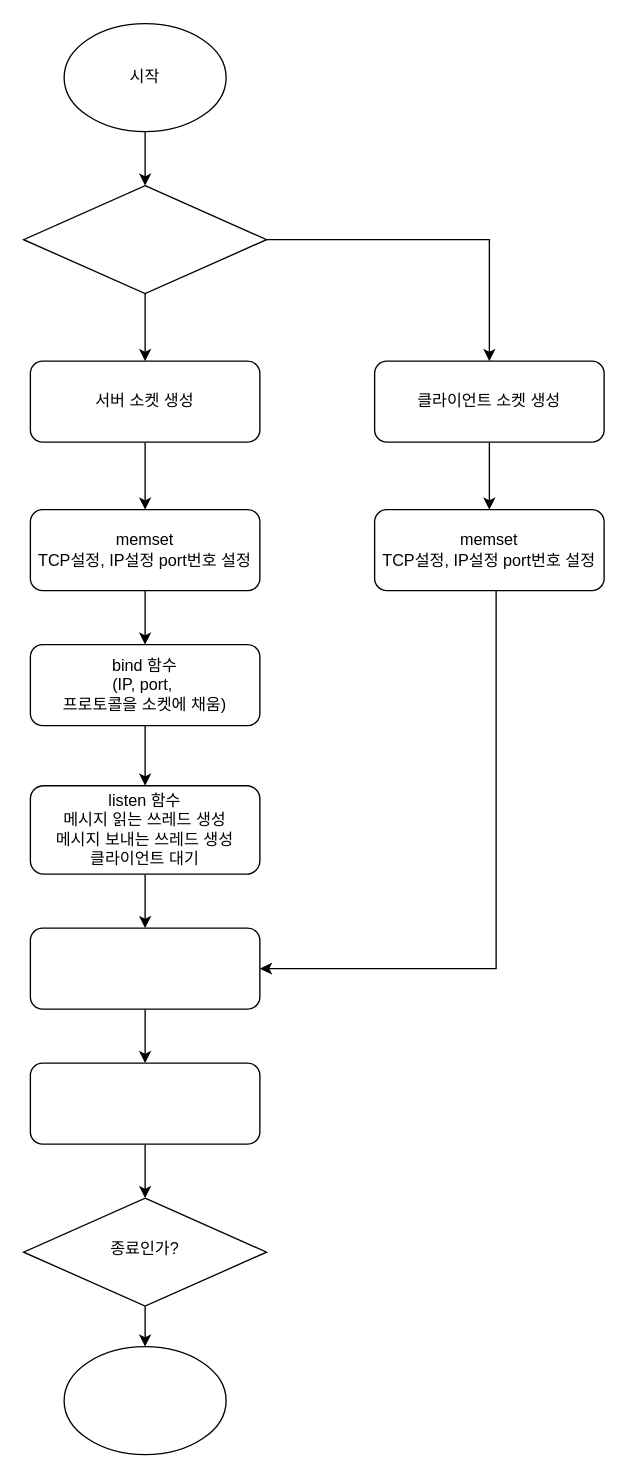
The diagram is 628 pixels wide and 1478 high, and some of its shapes have lost their labels. Here are the shapes that lost their labels. From the top down, the box of each, then its label:
(22, 184, 267, 294): 서버인가?
(29, 927, 260, 1009): 클라이언트 접속
(29, 1062, 260, 1144): accept 함수 클라이언트 쓰레드 생성(READ) 클라이언트 쓰레드 생성(WRITE)
(63, 1345, 226, 1455): 종료
